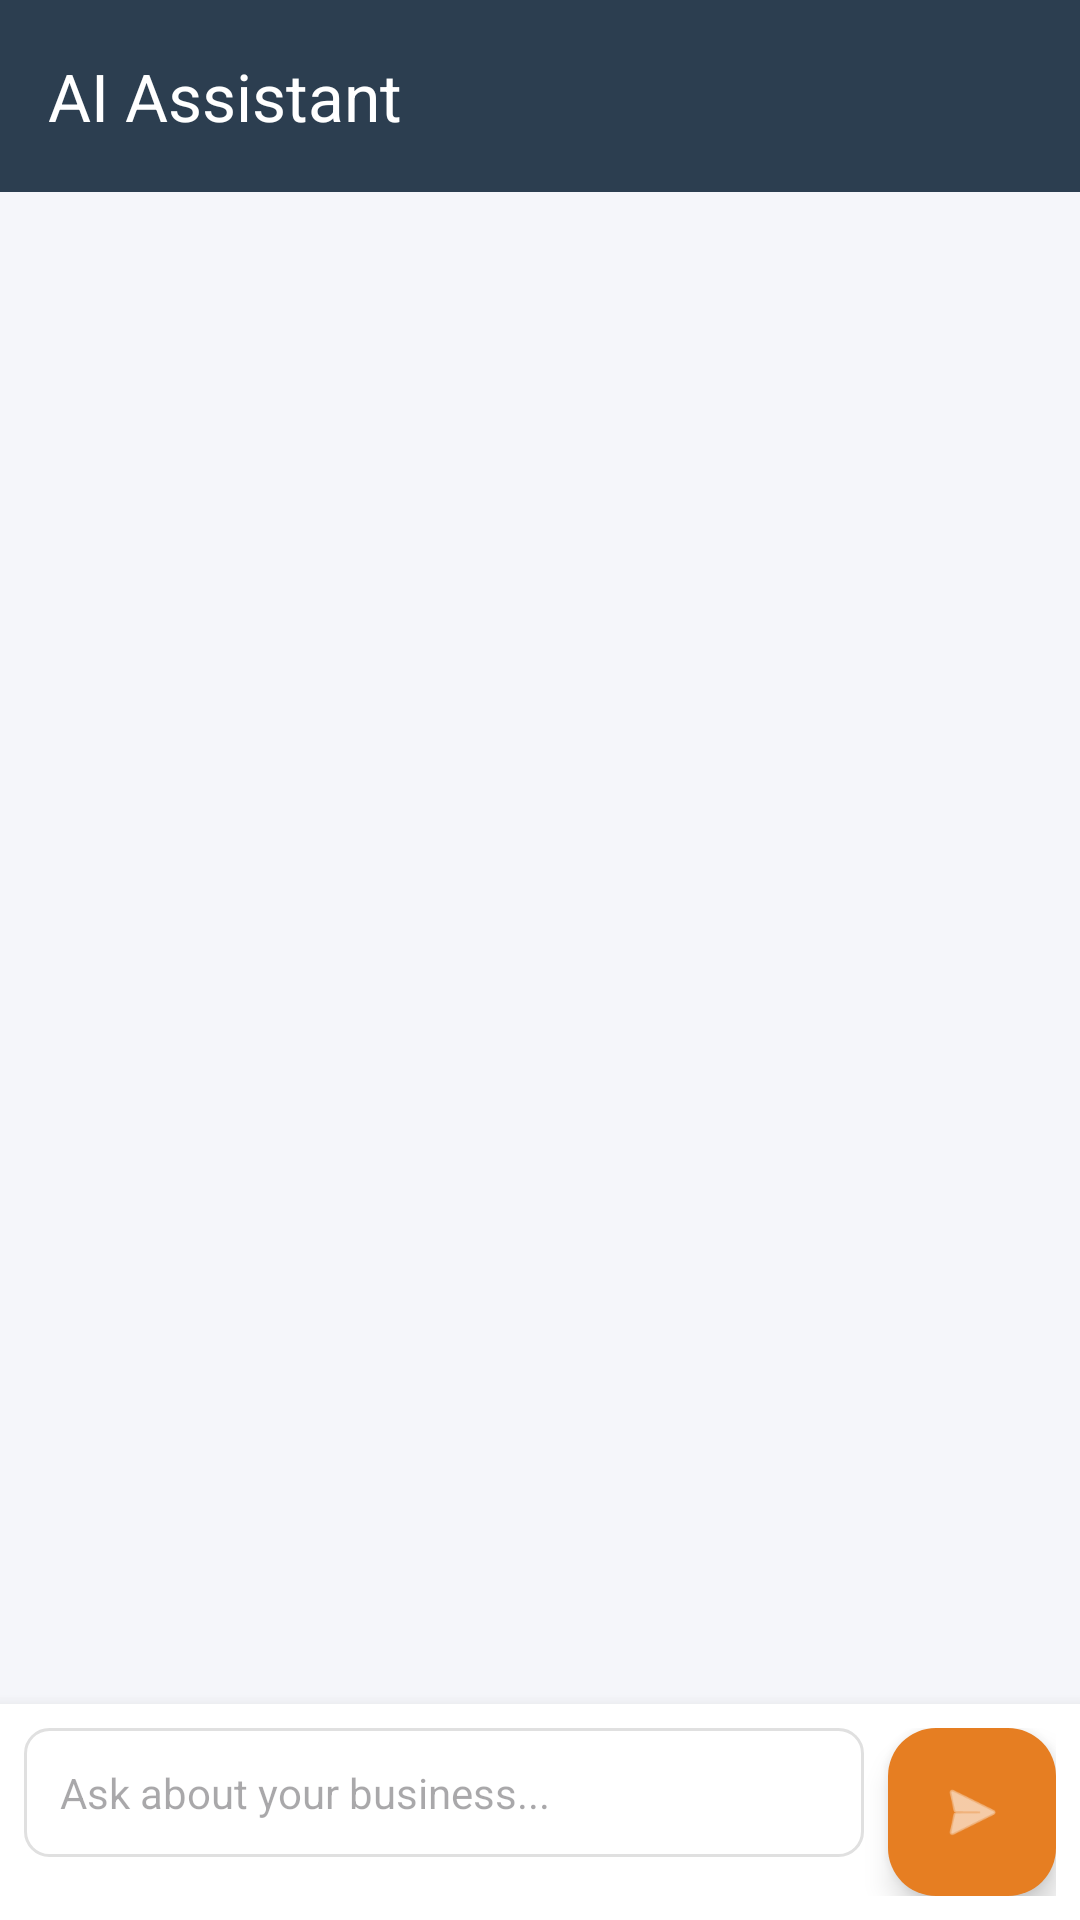

Screen size 1080 × 1920. Icon name, then its center in pixels as (x,y):
send: (972,1812)
